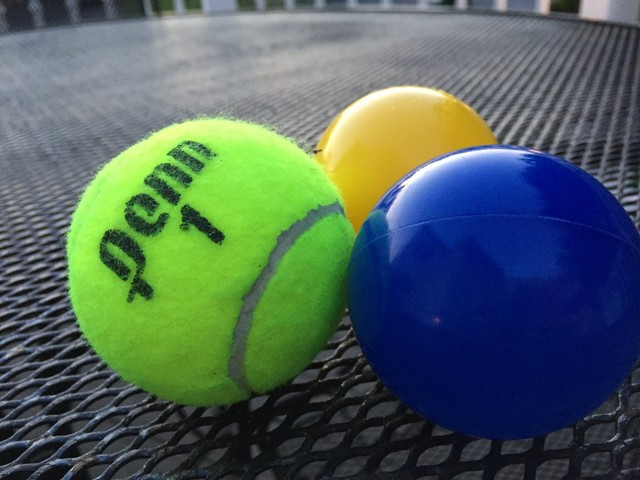Ball: (348, 145, 640, 437)
